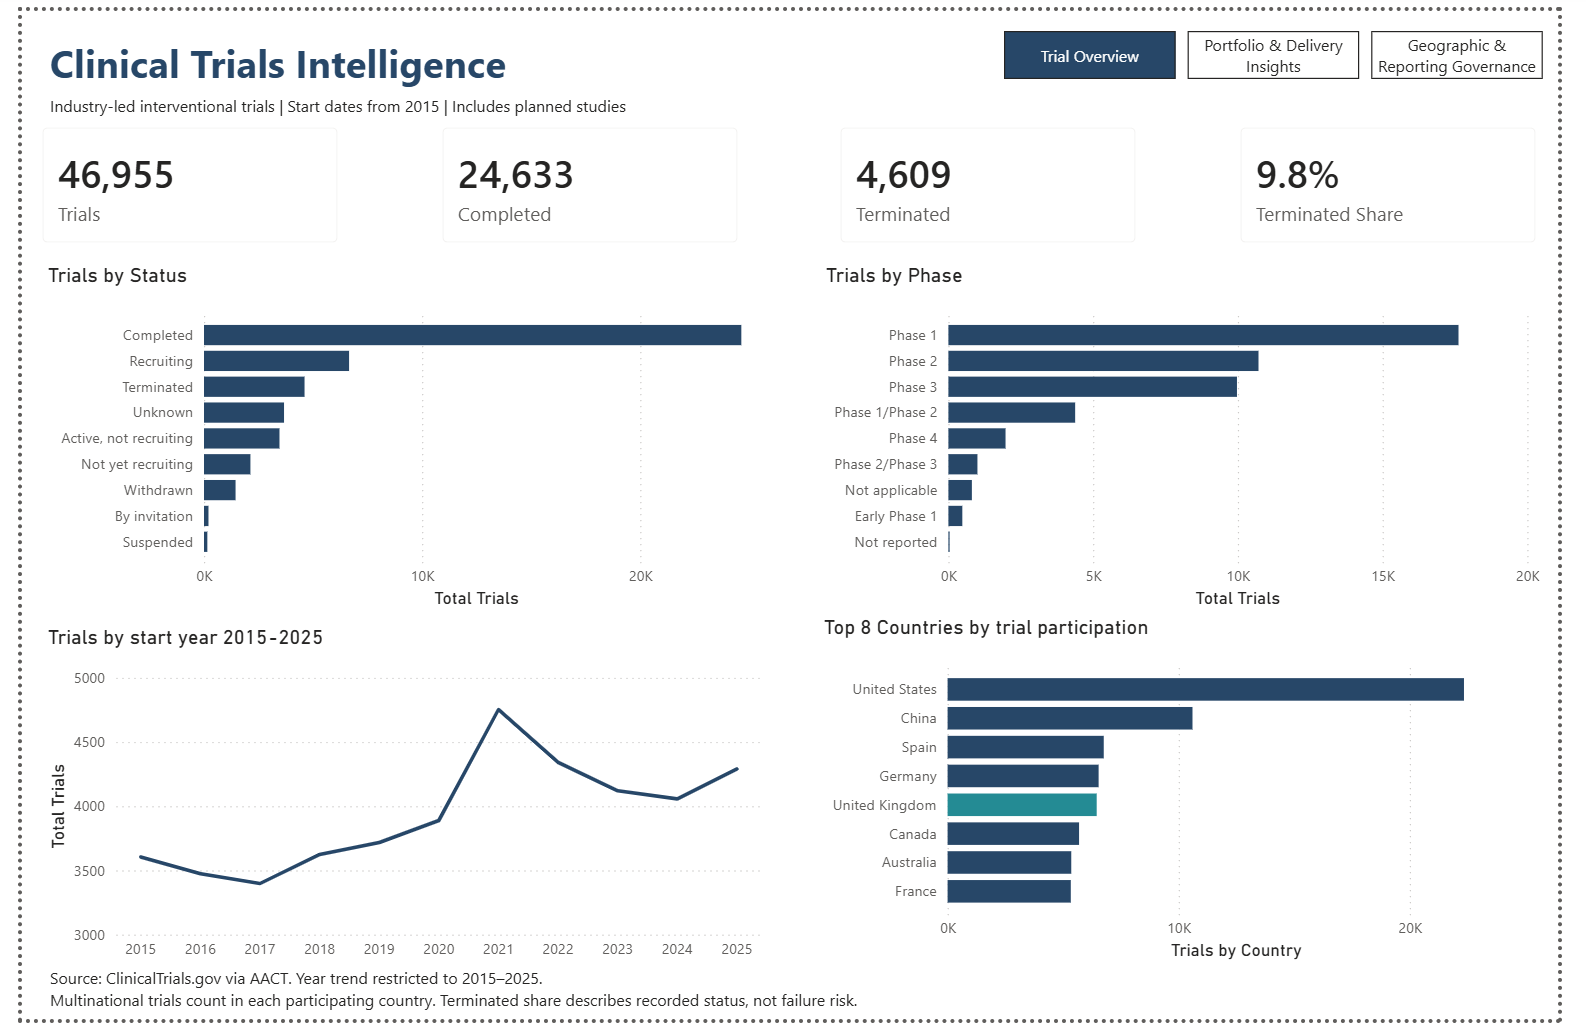

This screenshot's page, from the dashboard's own definition file:
{"tool":"powerbi","page":{"name":"Trial Overview","canvas":[1280,840],"ordinal":0},"visuals":[{"type":"group","id":"g1","title":"Group 1","box":[0,80,1277.5,720],"z":0},{"type":"cardVisual","fields":{"Data":["FactTrials.Terminated Share"]},"box":[997.5,80,280,130],"z":0,"group":"g1"},{"type":"textbox","box":[18,16,400,64],"z":1000},{"type":"cardVisual","fields":{"Data":["FactTrials.Trials"]},"box":[0,80,280,130],"z":1000,"group":"g1"},{"type":"textbox","box":[17.8,64.4,540,30],"z":2000},{"type":"cardVisual","fields":{"Data":["FactTrials.Completed"]},"box":[332.5,80,280,130],"z":2000,"group":"g1"},{"type":"cardVisual","fields":{"Data":["FactTrials.Terminated"]},"box":[665,80,280,130],"z":3000,"group":"g1"},{"type":"textbox","box":[18,792,780,48],"z":3000},{"type":"pageNavigator","box":[818.3,16.7,450,40],"z":3001},{"type":"clusteredBarChart","title":"Trials by Status","fields":{"Y":["FactTrials.Total Trials"],"Category":["FactTrials.Status Label"]},"box":[17,210,604.4,292.2],"z":4000,"group":"g1"},{"type":"clusteredBarChart","title":"Trials by Phase","fields":{"Y":["FactTrials.Total Trials"],"Category":["FactTrials.Phase Label"]},"box":[664.3,210,604.4,292.2],"z":5000,"group":"g1"},{"type":"lineChart","title":"Trials by start year 2015-2025","fields":{"Category":["FactTrials.start_year"],"Y":["FactTrials.Total Trials"]},"box":[17,512,604,288],"z":6000,"group":"g1"},{"type":"clusteredBarChart","title":"Top 8 Countries by trial participation","fields":{"Category":["BridgeTrialCountry.country_name"],"Y":["BridgeTrialCountry.Trials by Country"]},"box":[663.8,502.5,604.4,292.2],"z":7000,"group":"g1"}]}

Visuals, with their boxes in screenshot pixels (x1, y1, x2, y2), scaled from the page's 1280x840 canvas onto the 1586x1030 screenshot:
"Group 1" group: left=0, top=98, right=1583, bottom=981
cardVisual - FactTrials.Terminated Share: left=1236, top=98, right=1583, bottom=258
textbox: left=22, top=20, right=518, bottom=98
cardVisual - FactTrials.Trials: left=0, top=98, right=347, bottom=258
textbox: left=22, top=79, right=691, bottom=116
cardVisual - FactTrials.Completed: left=412, top=98, right=759, bottom=258
cardVisual - FactTrials.Terminated: left=824, top=98, right=1171, bottom=258
textbox: left=22, top=971, right=989, bottom=1029
pageNavigator: left=1014, top=20, right=1572, bottom=70
"Trials by Status" clusteredBarChart: left=21, top=258, right=770, bottom=616
"Trials by Phase" clusteredBarChart: left=823, top=258, right=1572, bottom=616
"Trials by start year 2015-2025" lineChart: left=21, top=628, right=769, bottom=981
"Top 8 Countries by trial participation" clusteredBarChart: left=822, top=616, right=1571, bottom=974
